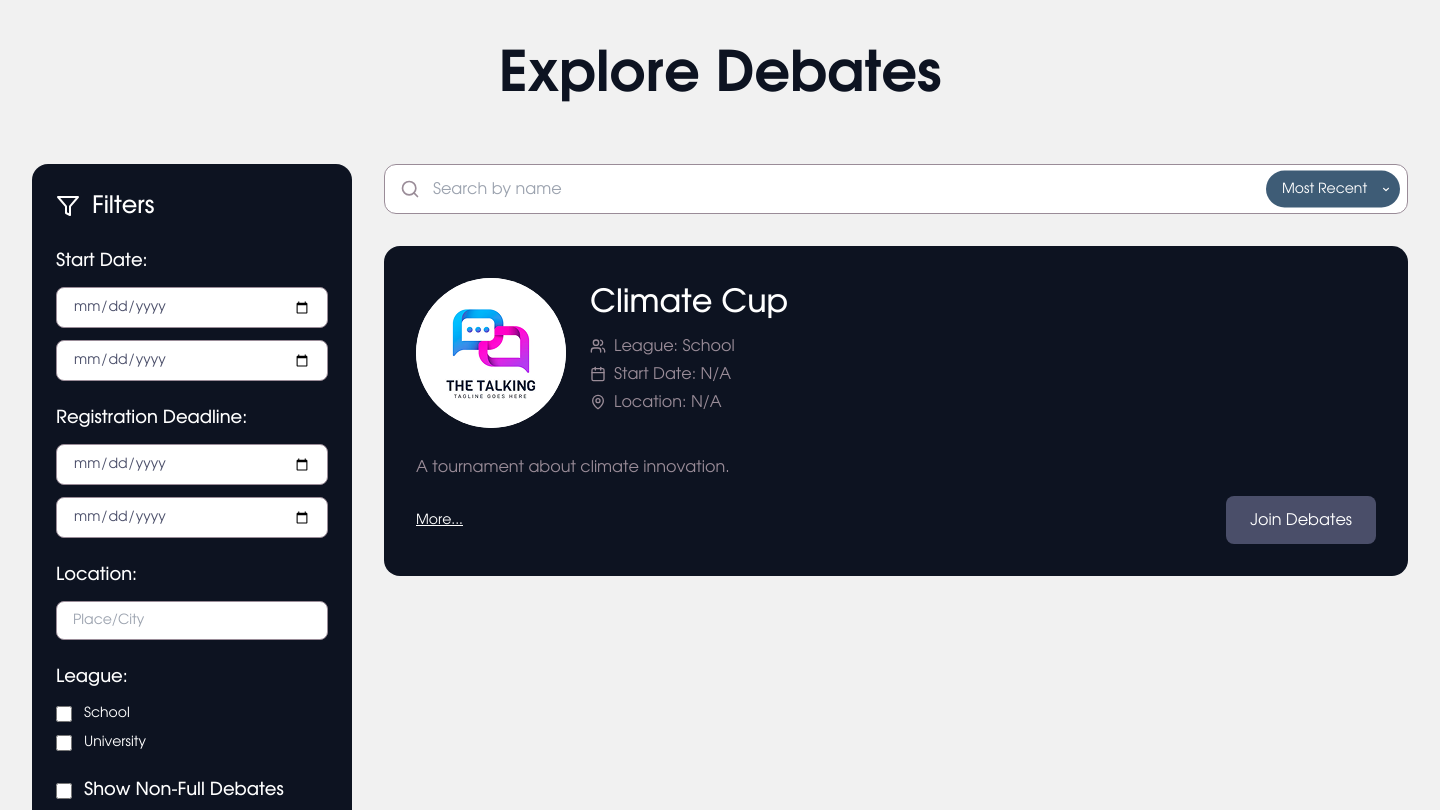
Test case: JoinDebatesPage team registration › prompts guests to sign in before team registration
Expected: the heading "Climate Cup" is shown, [590,286,788,318]
Step 1. Click the button "Join Debates" → (1301, 520), box [1226,496,1376,544]
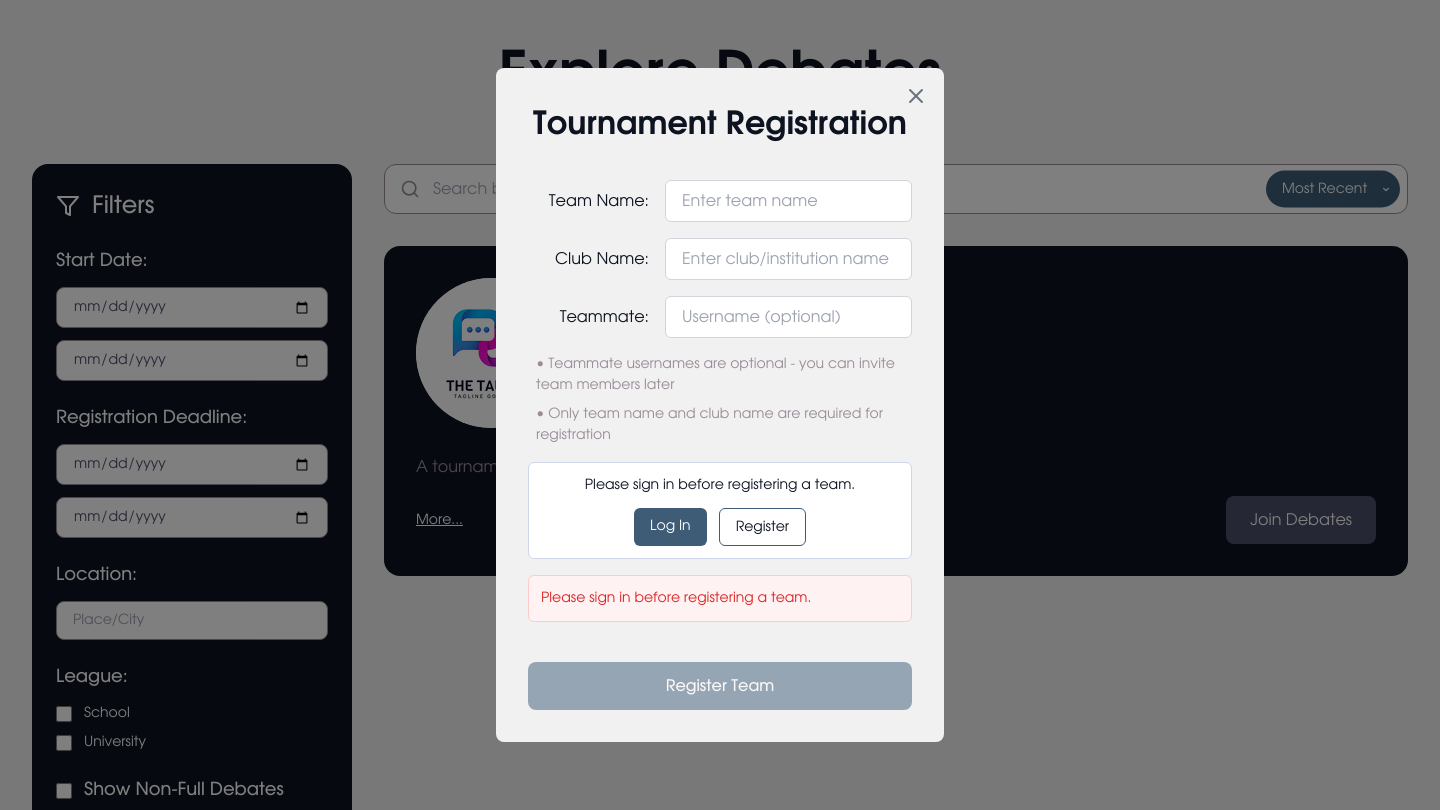
Result: the heading "Tournament Registration" is shown at [528,100,912,148]
Result: the 1st text "Please sign in before registering a team." is shown at [585,478,855,492]
Result: the button "Register Team" is disabled at [528,662,912,710]
